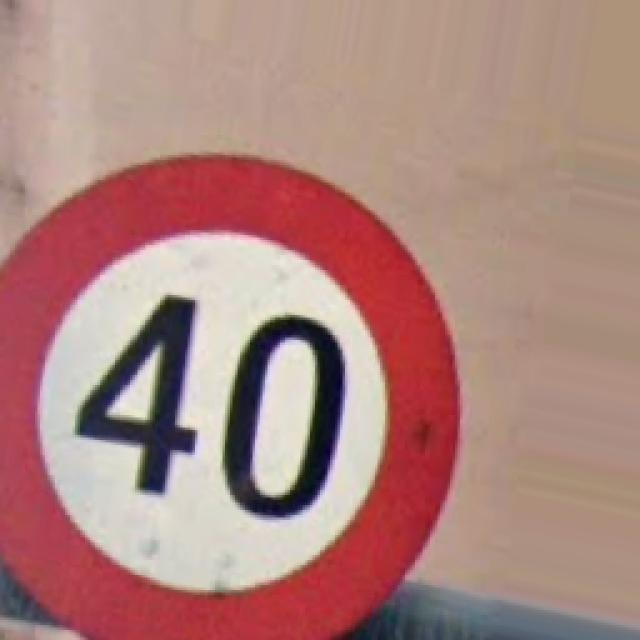Speed Limit -40-: (0, 158, 458, 638)
